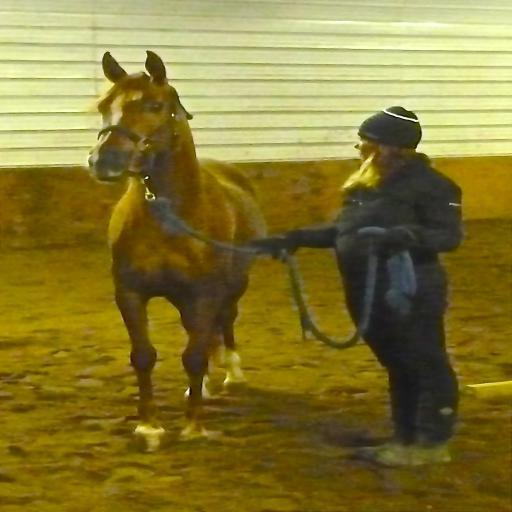horse: (86, 46, 274, 454)
